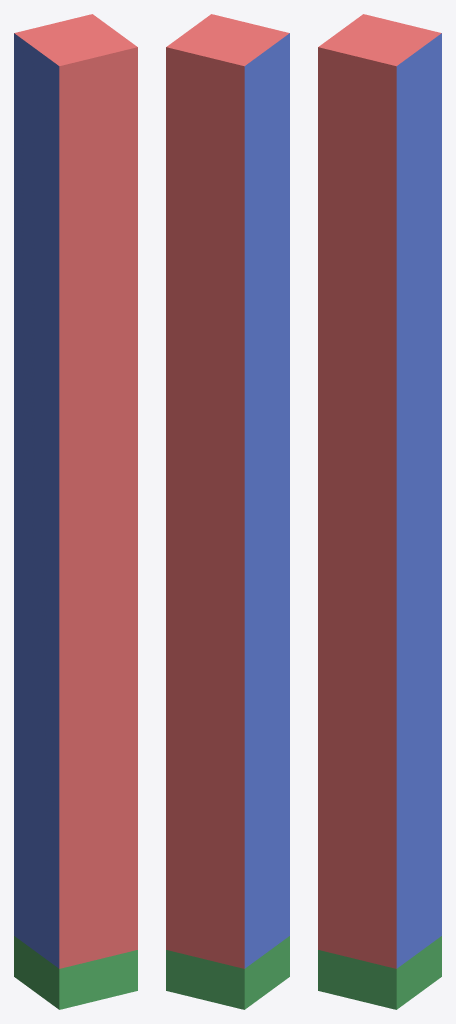
The model's file is init_origin.pipe_length_10_0.dae.
The picture shows the model from 3 angles, left to right: view 1: azimuth 30°, elevation 25°; view 2: azimuth 150°, elevation 25°; view 3: azimuth 330°, elevation 25°; orthographic projection.
Visible parts, largest first — view 1: ZXO (×2), ZXX (×3), Y (×2); view 2: ZXO (×2), ZXX (×3), Y (×2); view 3: ZXO (×2), ZXX (×3), Y (×2).
Part boxes in pixels (box(x1,y1,x2,y2)): ZXO (×2): box(14, 115, 137, 968); ZXX (×3): box(14, 14, 137, 148); Y (×2): box(14, 936, 137, 1009); ZXO (×2): box(166, 115, 289, 968); ZXX (×3): box(166, 14, 289, 148); Y (×2): box(166, 936, 289, 1009); ZXO (×2): box(318, 115, 441, 968); ZXX (×3): box(318, 14, 441, 148); Y (×2): box(318, 936, 441, 1009).
Bounding box in the file's own units: 1 × 1 × 11.5.
